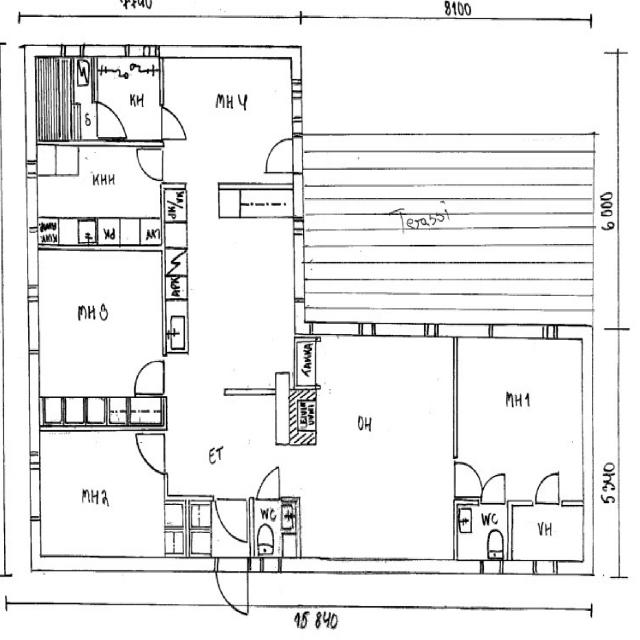door: (215, 559, 248, 613), (215, 496, 247, 542), (132, 434, 166, 474), (266, 137, 302, 173), (93, 102, 123, 137), (453, 463, 483, 497), (137, 361, 166, 394), (162, 106, 190, 138), (138, 148, 166, 180), (482, 469, 505, 506), (256, 466, 280, 500), (536, 469, 558, 506)
